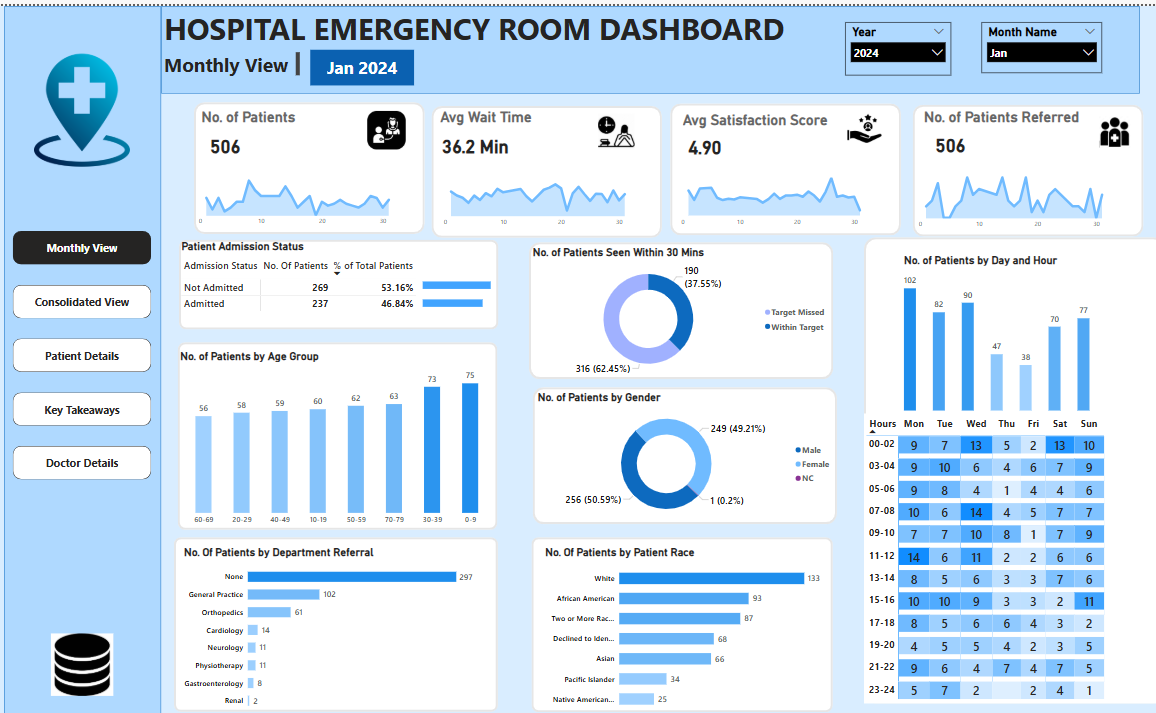

This screenshot's page, from the dashboard's own definition file:
{"tool":"powerbi","page":{"name":"Monthly View","canvas":[2300,1400],"ordinal":0},"visuals":[{"type":"shape","box":[9.8,0,310,1400],"z":0},{"type":"shape","box":[319.5,0,1929.3,173.2],"z":1000},{"type":"textbox","box":[320,0,1267.5,102.5],"z":2000},{"type":"shape","box":[383.5,190,455,260],"z":3000},{"type":"textbox","box":[320,87.5,277.5,57.5],"z":4000},{"type":"card","fields":{"Values":["Hospital ER_Data.No. Of Patients"]},"box":[394.5,240,102.7,71.8],"z":5000},{"type":"slicer","fields":{"Values":["Date Table.Year"]},"box":[1669,32.8,208.6,105.2],"z":6000},{"type":"slicer","fields":{"Values":["Date Table.Month Name"]},"box":[1937.9,32.8,237.9,100],"z":7000},{"type":"textbox","box":[394.5,196.4,277.3,57.3],"z":8000},{"type":"areaChart","fields":{"Y":["Hospital ER_Data.No. Of Patients"],"Category":["Date Table.Date.Variation.Date Hierarchy.Day"]},"box":[383.3,323.3,450,120],"z":9000},{"type":"card","fields":{"Values":["Min(Date Table.Month & Year)"]},"box":[615,87.5,205,70],"z":10000},{"type":"shape","box":[852.7,196.4,454.5,260],"z":11000},{"type":"card","fields":{"Values":["Hospital ER_Data.Avg Wait Time"]},"box":[856.4,247.3,168.2,55.5],"z":12000},{"type":"textbox","box":[864.5,196.4,277.3,57.3],"z":13000},{"type":"areaChart","fields":{"Y":["Avg(Hospital ER_Data.Patient Waittime)"],"Category":["Date Table.Date.Variation.Date Hierarchy.Day"]},"box":[865,325,430,118.3],"z":14000},{"type":"shape","box":[1324.8,192,455,260],"z":15000},{"type":"card","fields":{"Values":["Hospital ER_Data.Satisfaction Score"]},"box":[1333.6,250.9,117.3,49.1],"z":16000},{"type":"textbox","box":[1345,201.7,340,50],"z":17000},{"type":"shape","box":[356.1,460.2,630,177],"z":18000},{"type":"areaChart","fields":{"Category":["Date Table.Date.Variation.Date Hierarchy.Day"],"Y":["Hospital ER_Data.Satisfaction Score"]},"box":[1333.6,326.4,424.5,118.2],"z":19000},{"type":"shape","box":[1801.5,196,455,260],"z":20000},{"type":"card","fields":{"Values":["Hospital ER_Data.No. Of Patients"]},"box":[1802.1,237.5,147.9,72.9],"z":21000},{"type":"textbox","box":[1819.7,197.3,372.3,56.7],"z":22000},{"type":"areaChart","fields":{"Category":["Date Table.Date.Variation.Date Hierarchy.Day"],"Y":["Hospital ER_Data.No. Of Patients Referred"]},"box":[1801.5,313.5,435,135],"z":23000},{"type":"pivotTable","title":"Patient Admission Status","fields":{"Rows":["Hospital ER_Data.Admission Status"],"Values":["Hospital ER_Data.No. Of Patients1","Hospital ER_Data.No. Of Patients"]},"box":[356.1,460.2,518.8,177.1],"z":24000},{"type":"shape","box":[344.4,1047.2,638.9,344.4],"z":25000},{"type":"barChart","fields":{"Category":["Hospital ER_Data.Admission Status"],"Y":["Hospital ER_Data.No. Of Patients"]},"box":[830.8,513.9,159.7,106.5],"z":26000},{"type":"shape","box":[353.3,664.1,630.6,370],"z":27000},{"type":"clusteredColumnChart","fields":{"Category":["Hospital ER_Data.\"Age Group"],"Y":["Hospital ER_Data.No. Of Patients"]},"box":[352.2,677.1,630,356],"z":28000},{"type":"clusteredBarChart","fields":{"Category":["Hospital ER_Data.Department Referral"],"Y":["Hospital ER_Data.No. Of Patients"]},"box":[360,1065.2,579.4,335.3],"z":29000},{"type":"shape","box":[1044.8,465.9,600,270],"z":30000},{"type":"donutChart","title":"No. of Patients Seen Within 30 Mins","fields":{"Category":["Hospital ER_Data.Waitime Status"],"Y":["Hospital ER_Data.No. Of Patients"]},"box":[1048.9,473.9,594.2,263.8],"z":31000},{"type":"shape","box":[1052.8,752.1,600,270],"z":32000},{"type":"donutChart","title":"No. of Patients by Gender","fields":{"Y":["Hospital ER_Data.No. Of Patients"],"Category":["Hospital ER_Data.Patient Gender"]},"box":[1056.9,760.1,594.2,263.8],"z":33000},{"type":"shape","box":[1706.3,456.2,594.2,919.7],"z":34000},{"type":"shape","box":[1050.4,1047.9,594.2,345.2],"z":35000},{"type":"clusteredBarChart","fields":{"Y":["Hospital ER_Data.No. Of Patients"],"Category":["Hospital ER_Data.Patient Race"]},"box":[1072.6,1065.2,552.3,335.3],"z":36000},{"type":"pivotTable","fields":{"Rows":["Hospital ER_Data.Waitime Interval"],"Columns":["Date Table.Day Name"],"Values":["Hospital ER_Data.No. Of Patients"]},"box":[1706,804,594,572],"z":37000},{"type":"columnChart","title":"No. of Patients by Day and Hour","fields":{"Category":["Date Table.Day Name"],"Y":["Hospital ER_Data.No. Of Patients"]},"box":[1780,488,378,316],"z":38000},{"type":"image","box":[718,202,94,86],"z":39000},{"type":"image","box":[1150,208,138,82],"z":40000},{"type":"image","box":[2166,212,72,74],"z":41000},{"type":"image","box":[1652,198,110,88],"z":42000},{"type":"image","box":[46,88,234,234],"z":43000},{"type":"pageNavigator","box":[27.1,443.8,273.7,493.1],"z":44000},{"type":"image","box":[88.8,1232.9,150.4,133.1],"z":45000}]}

Visuals, with their boxes in screenshot pixels (x1, y1, x2, y2), scaled from the page's 2300x1400 canvas onto the 1156x713 screenshot:
shape: Rect(5, 0, 161, 712)
shape: Rect(161, 0, 1130, 88)
textbox: Rect(161, 0, 798, 52)
shape: Rect(193, 97, 421, 229)
textbox: Rect(161, 45, 300, 74)
card - Hospital ER_Data.No. Of Patients: Rect(198, 122, 250, 159)
slicer - Date Table.Year: Rect(839, 17, 944, 70)
slicer - Date Table.Month Name: Rect(974, 17, 1094, 68)
textbox: Rect(198, 100, 338, 129)
areaChart - Hospital ER_Data.No. Of Patients x Date Table.Date.Variation.Date Hierarchy.Day: Rect(193, 165, 419, 226)
card - Min(Date Table.Month & Year): Rect(309, 45, 412, 80)
shape: Rect(429, 100, 657, 232)
card - Hospital ER_Data.Avg Wait Time: Rect(430, 126, 515, 154)
textbox: Rect(435, 100, 574, 129)
areaChart - Avg(Hospital ER_Data.Patient Waittime) x Date Table.Date.Variation.Date Hierarchy.Day: Rect(435, 166, 651, 226)
shape: Rect(666, 98, 895, 230)
card - Hospital ER_Data.Satisfaction Score: Rect(670, 128, 729, 153)
textbox: Rect(676, 103, 847, 128)
shape: Rect(179, 234, 496, 325)
areaChart - Date Table.Date.Variation.Date Hierarchy.Day x Hospital ER_Data.Satisfaction Score: Rect(670, 166, 884, 226)
shape: Rect(905, 100, 1134, 232)
card - Hospital ER_Data.No. Of Patients: Rect(906, 121, 980, 158)
textbox: Rect(915, 100, 1102, 129)
areaChart - Date Table.Date.Variation.Date Hierarchy.Day x Hospital ER_Data.No. Of Patients Referred: Rect(905, 160, 1124, 228)
"Patient Admission Status" pivotTable: Rect(179, 234, 440, 325)
shape: Rect(173, 533, 494, 709)
barChart - Hospital ER_Data.Admission Status x Hospital ER_Data.No. Of Patients: Rect(418, 262, 498, 316)
shape: Rect(178, 338, 495, 527)
clusteredColumnChart - Hospital ER_Data."Age Group x Hospital ER_Data.No. Of Patients: Rect(177, 345, 494, 526)
clusteredBarChart - Hospital ER_Data.Department Referral x Hospital ER_Data.No. Of Patients: Rect(181, 542, 472, 712)
shape: Rect(525, 237, 827, 375)
"No. of Patients Seen Within 30 Mins" donutChart: Rect(527, 241, 826, 376)
shape: Rect(529, 383, 831, 521)
"No. of Patients by Gender" donutChart: Rect(531, 387, 830, 521)
shape: Rect(858, 232, 1155, 701)
shape: Rect(528, 534, 827, 709)
clusteredBarChart - Hospital ER_Data.No. Of Patients x Hospital ER_Data.Patient Race: Rect(539, 542, 817, 712)
pivotTable - Hospital ER_Data.Waitime Interval x Date Table.Day Name: Rect(857, 409, 1155, 701)
"No. of Patients by Day and Hour" columnChart: Rect(895, 249, 1085, 409)
image: Rect(361, 103, 408, 147)
image: Rect(578, 106, 647, 148)
image: Rect(1089, 108, 1125, 146)
image: Rect(830, 101, 886, 146)
image: Rect(23, 45, 141, 164)
pageNavigator: Rect(14, 226, 151, 477)
image: Rect(45, 628, 120, 696)
